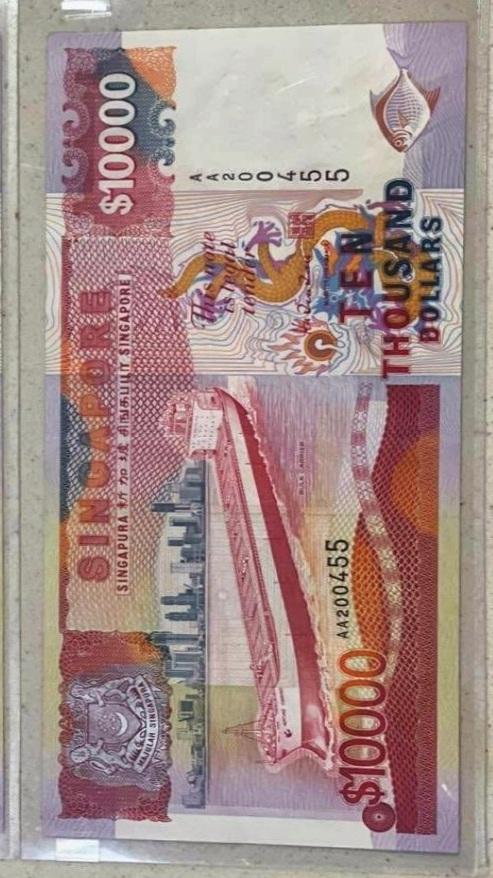10000SingaporeDollar: (47, 34, 460, 834)
